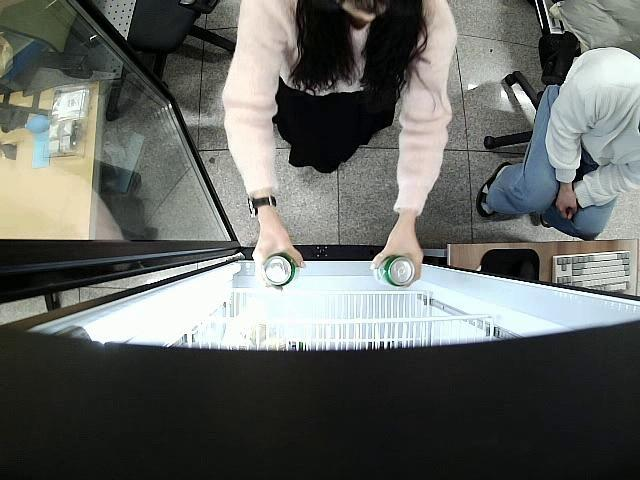12_chilsungCider: (375, 255, 416, 288), (261, 254, 300, 288)
